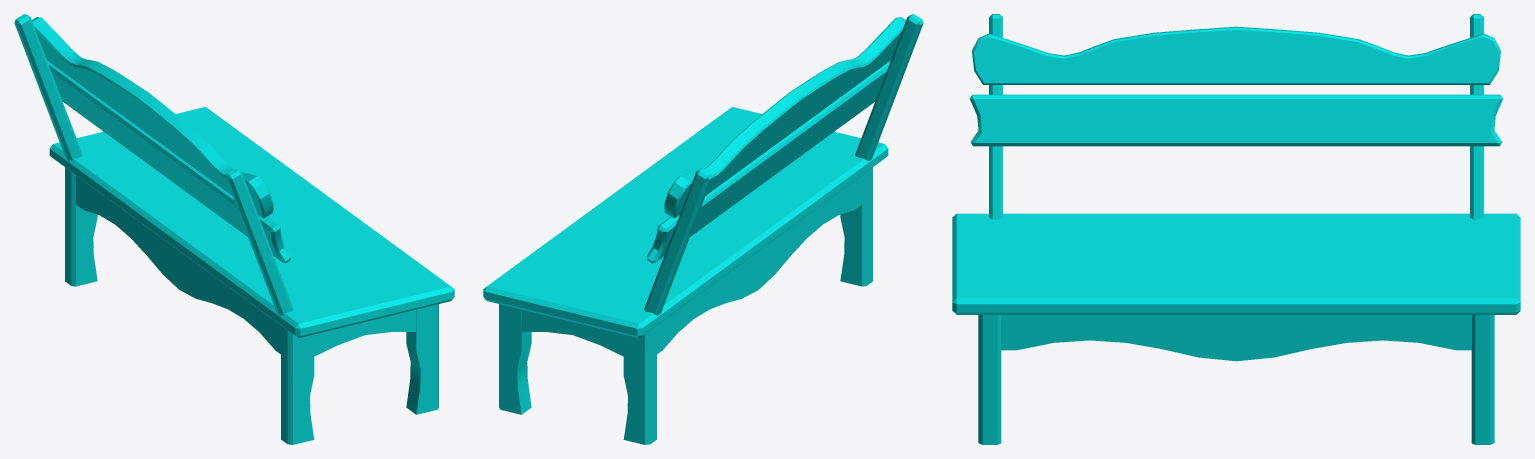
The model's file is Bench_1.fbx.
3 views of the same model, side by side, from view 1: azimuth 30°, elevation 25°; view 2: azimuth 150°, elevation 25°; view 3: azimuth 270°, elevation 25° (orthographic). The views are drawn at different scales.
Visible parts, largest first — view 1: Skam; view 2: Skam; view 3: Skam.
Boxes of the visible parts, x1,y1,x2,y2 form: Skam: (14,14,454,444); Skam: (483,14,923,444); Skam: (952,14,1520,444).
Bounding box in the file's own units: 49.51 × 63.27 × 102.
